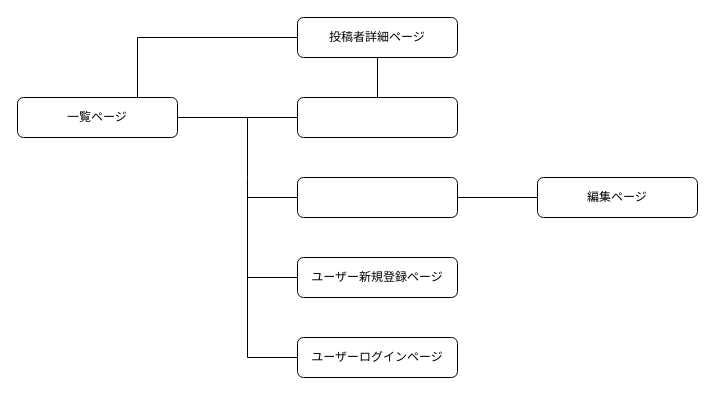
The diagram is 715 pixels wide and 395 high, and some of its shapes have lost their labels. The shapes that lost their labels are listed below. From the top down, each one's box as (x1, y1, x2, y2) in pixels, then its label:
(296, 96, 458, 138): 詳細ページ
(296, 176, 458, 218): 投稿ページ
